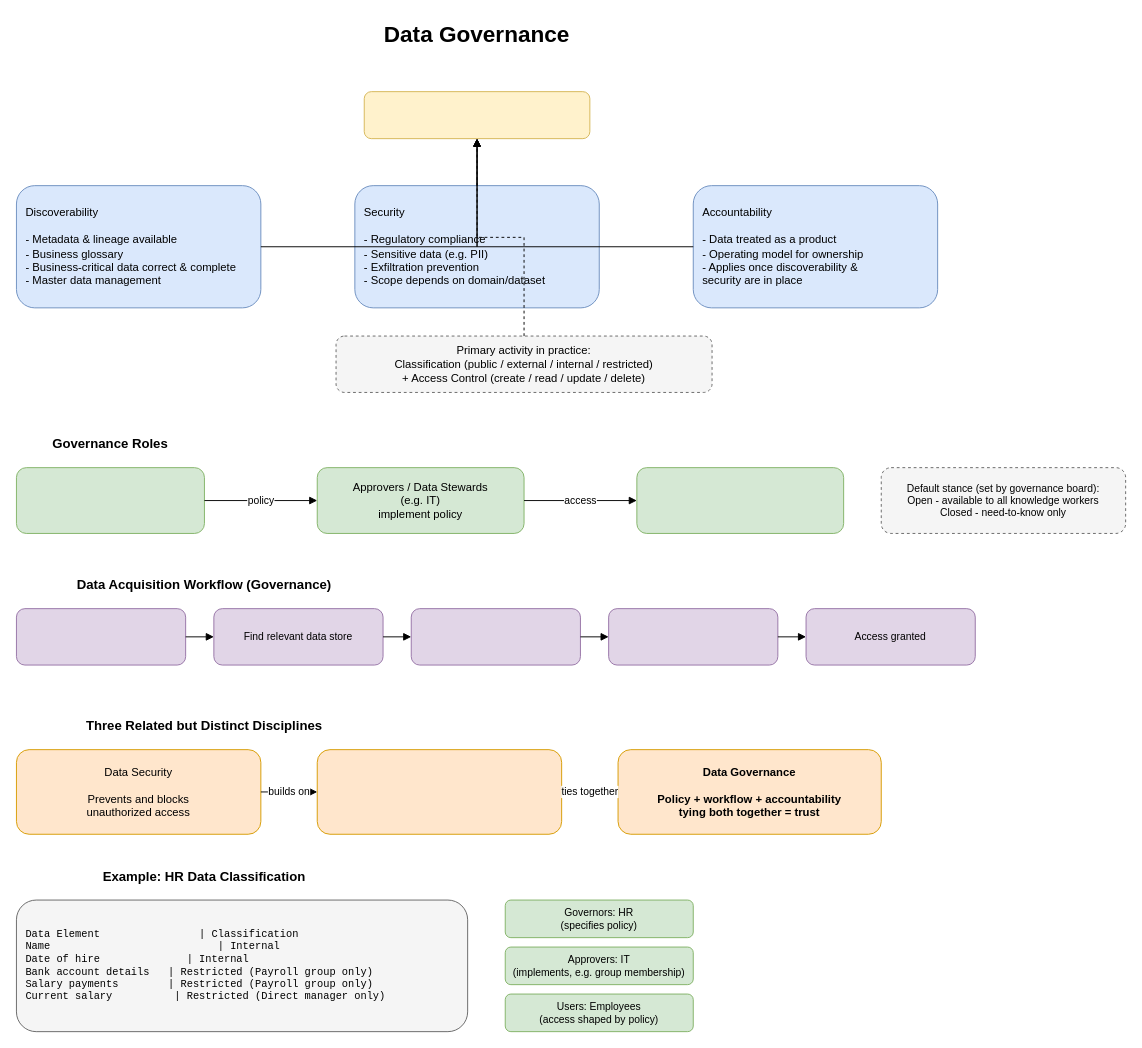
Image size: 1142x1048. Some labels were removed from this diagram. Each missing label, with the centre of its shape:
"Data Enablement Tools + knowledge to analyze and process accessible data" belongs at (x=439, y=791).
"Governors (e.g. HR) specify policy" belongs at (x=110, y=500).
"Purpose: Build Trust in Data" belongs at (x=476, y=115).
"Request access with use case" belongs at (x=495, y=636).
"Search by context / description" belongs at (x=101, y=636).
"Steward reviews justification" belongs at (x=693, y=636).
"Users / Knowledge Workers behavior shaped by policy" belongs at (x=740, y=500).
